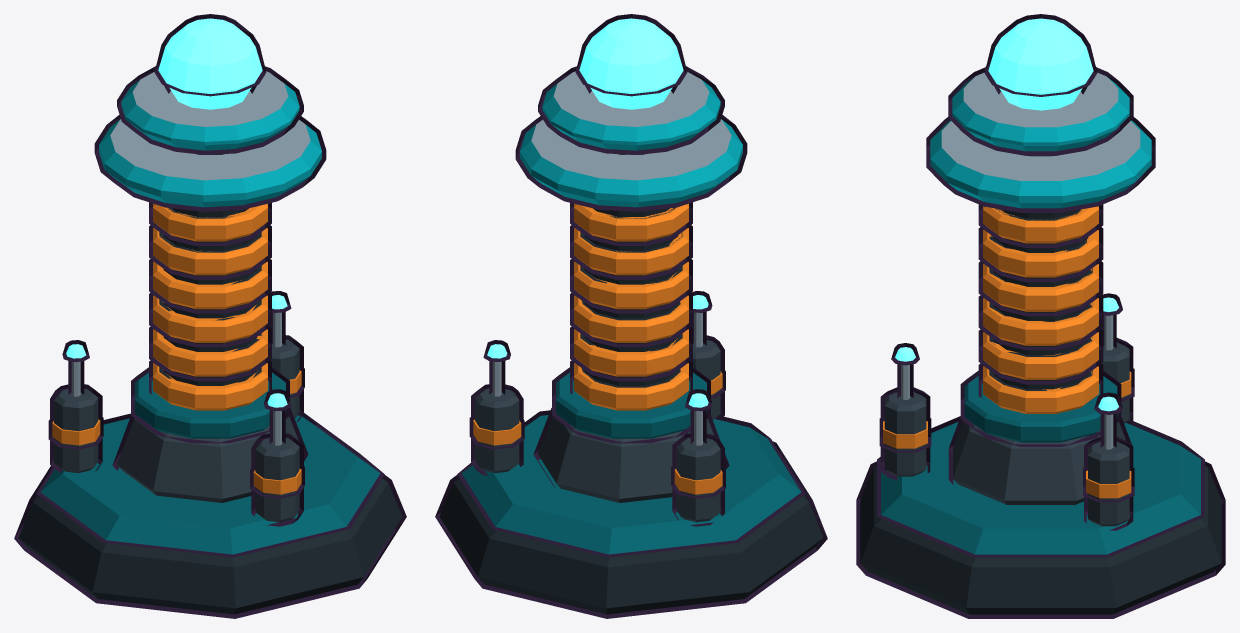
Rendered from TeslaCoil.glb.
3 views of the same model, side by side, from view 1: azimuth 30°, elevation 25°; view 2: azimuth 150°, elevation 25°; view 3: azimuth 270°, elevation 25° (orthographic).
Parts seen in each view (by area): view 1: TeslaCoil_GAME_Base; view 2: TeslaCoil_GAME_Base; view 3: TeslaCoil_GAME_Base.
Boxes of the visible parts, left/top/right/bottom form: TeslaCoil_GAME_Base: left=14, top=14, right=406, bottom=618; TeslaCoil_GAME_Base: left=435, top=14, right=827, bottom=618; TeslaCoil_GAME_Base: left=856, top=14, right=1225, bottom=618.
Size of the model in its own units: 0.9816 by 1.54 by 0.9816.
